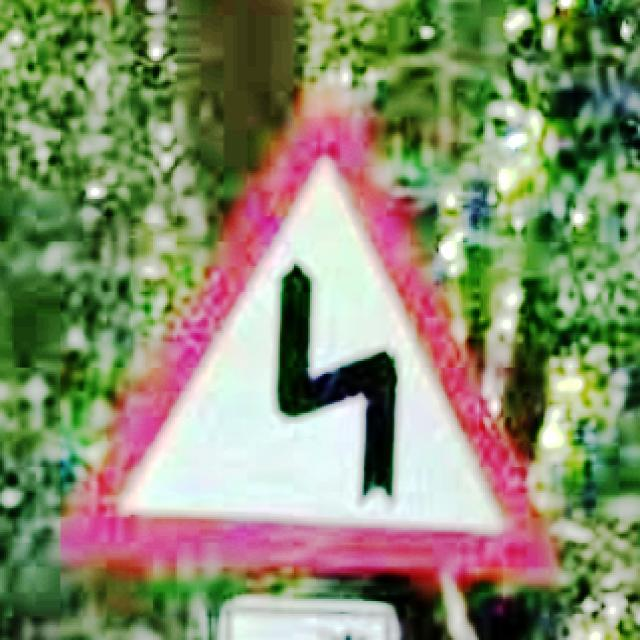doublebendleft: (64, 89, 553, 573)
